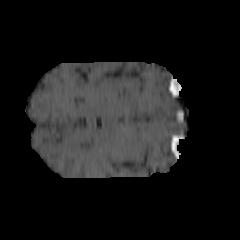glioma: (79, 79, 137, 126)
